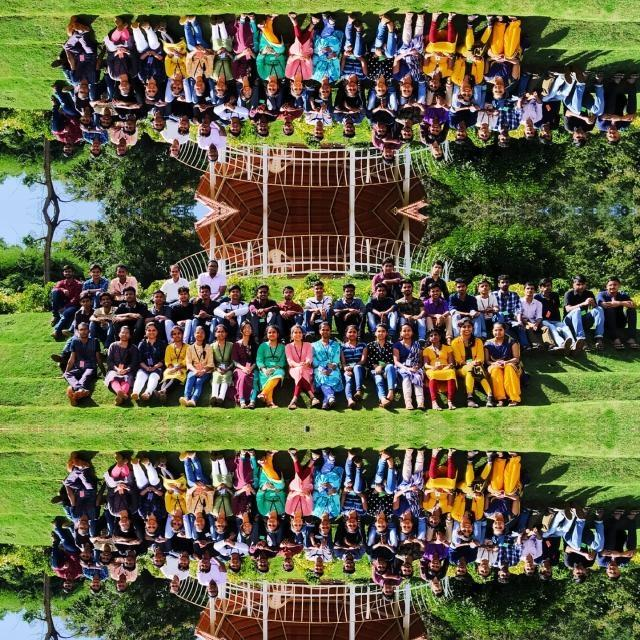person: (485, 316, 525, 414), (485, 444, 525, 542), (485, 9, 525, 106), (62, 322, 106, 408), (62, 450, 106, 536), (62, 15, 106, 100), (453, 311, 483, 423), (453, 435, 483, 547), (453, 0, 483, 111), (368, 321, 402, 412), (368, 10, 402, 101), (368, 447, 402, 538), (424, 3, 456, 96), (424, 326, 456, 418), (163, 12, 195, 104), (163, 448, 195, 540), (424, 440, 456, 532), (163, 318, 195, 409), (602, 274, 640, 350), (602, 72, 640, 148), (602, 508, 640, 584), (307, 320, 341, 404), (307, 18, 341, 102), (307, 454, 341, 538), (133, 317, 167, 398), (285, 318, 317, 404), (110, 322, 142, 408), (285, 18, 317, 104), (285, 454, 317, 540), (110, 450, 142, 536), (538, 277, 574, 353), (538, 69, 574, 145), (538, 505, 574, 581), (133, 24, 167, 104), (133, 460, 167, 540), (110, 15, 142, 100), (44, 257, 82, 327), (44, 95, 82, 165), (44, 531, 82, 601), (258, 321, 288, 409), (258, 13, 288, 101), (258, 449, 288, 537), (184, 321, 213, 409), (184, 13, 213, 101), (184, 449, 213, 537), (339, 320, 369, 404), (396, 318, 424, 408), (339, 18, 369, 102), (339, 454, 369, 538), (396, 450, 424, 540), (396, 15, 424, 104), (568, 274, 600, 348), (568, 74, 600, 148), (568, 510, 600, 584), (208, 322, 232, 412), (208, 10, 232, 100), (208, 446, 232, 536), (234, 19, 260, 102), (234, 320, 260, 402), (234, 456, 260, 538), (196, 258, 228, 318), (196, 104, 228, 164), (196, 540, 228, 600), (428, 276, 456, 336), (428, 86, 456, 146), (428, 522, 456, 582), (475, 274, 501, 330), (475, 92, 501, 148), (475, 528, 501, 584), (216, 286, 252, 326), (216, 96, 252, 136), (216, 532, 252, 572), (248, 282, 282, 324), (248, 98, 282, 140), (248, 534, 282, 576), (370, 281, 398, 331), (370, 91, 398, 141), (370, 527, 398, 577), (449, 274, 476, 320), (449, 102, 476, 148), (449, 538, 476, 584), (306, 277, 332, 319), (306, 103, 332, 145), (306, 539, 332, 581), (372, 254, 402, 290), (498, 274, 518, 328), (372, 132, 402, 168), (372, 568, 402, 604), (498, 94, 518, 148), (498, 530, 518, 584), (80, 258, 106, 296), (80, 126, 106, 164), (80, 562, 106, 600), (167, 260, 183, 296), (167, 126, 183, 162), (167, 562, 183, 598)
